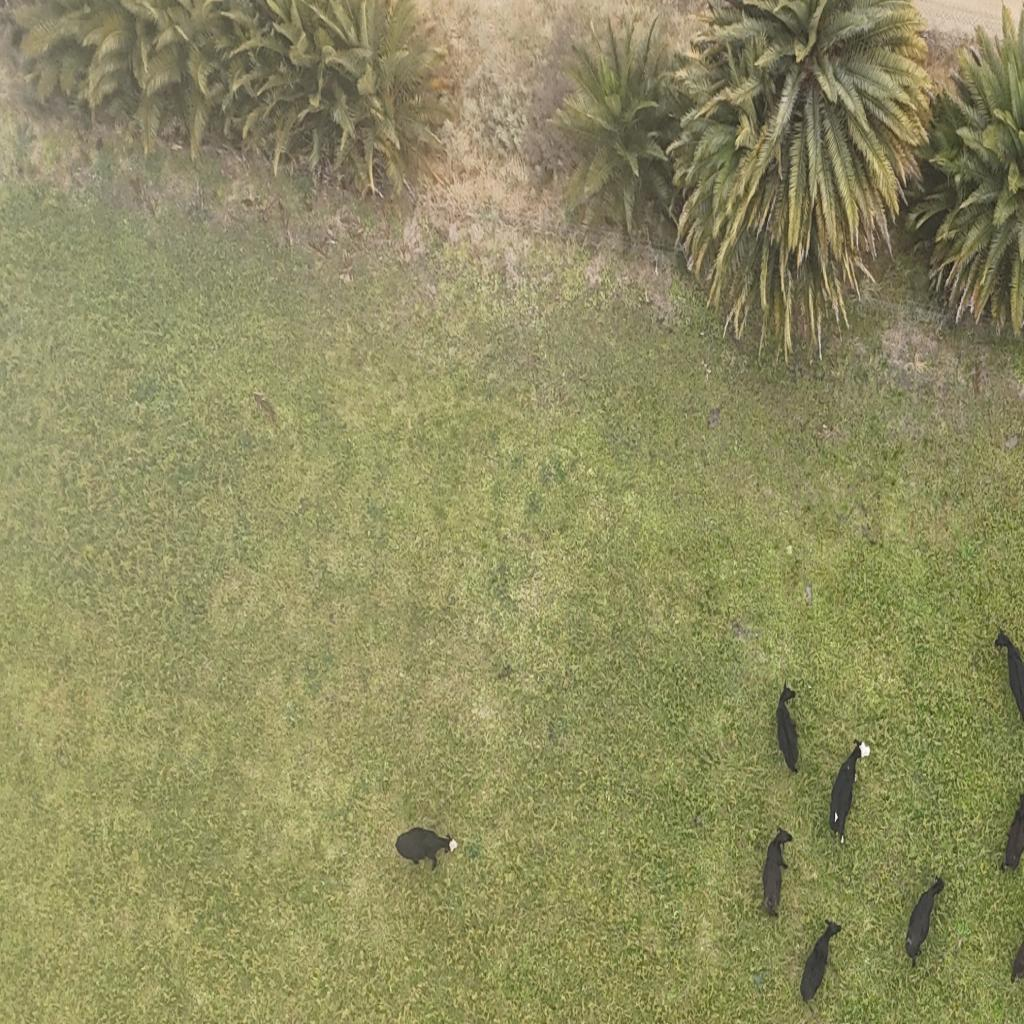cow: (903, 872, 949, 970), (828, 742, 870, 845), (799, 919, 842, 1006), (392, 822, 460, 873), (991, 627, 1023, 730), (761, 832, 791, 920), (775, 677, 800, 775), (1002, 774, 1024, 878), (1015, 928, 1024, 984)
